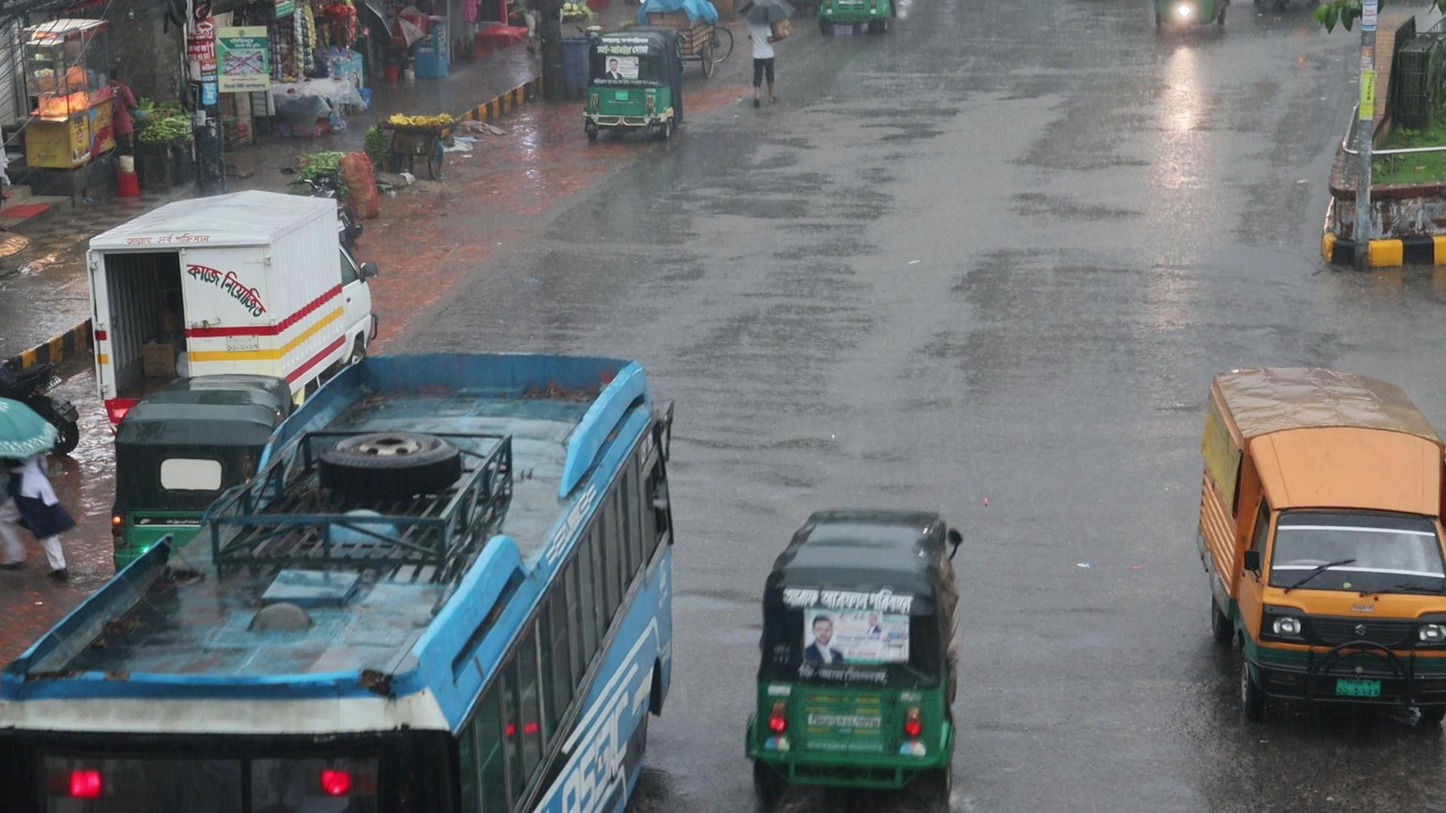Truck: (1194, 352, 1446, 722)
